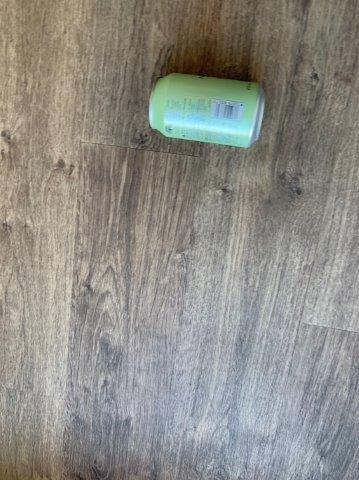kaleng: (150, 74, 264, 146)
